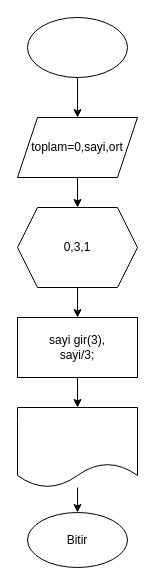
The diagram is 155 pixels wide and 585 high, and some of its shapes have lost their labels. Each missing label, with the box of its shape:
Başla: (26, 16, 128, 78)
sayıların ortalaması: (16, 406, 138, 488)
